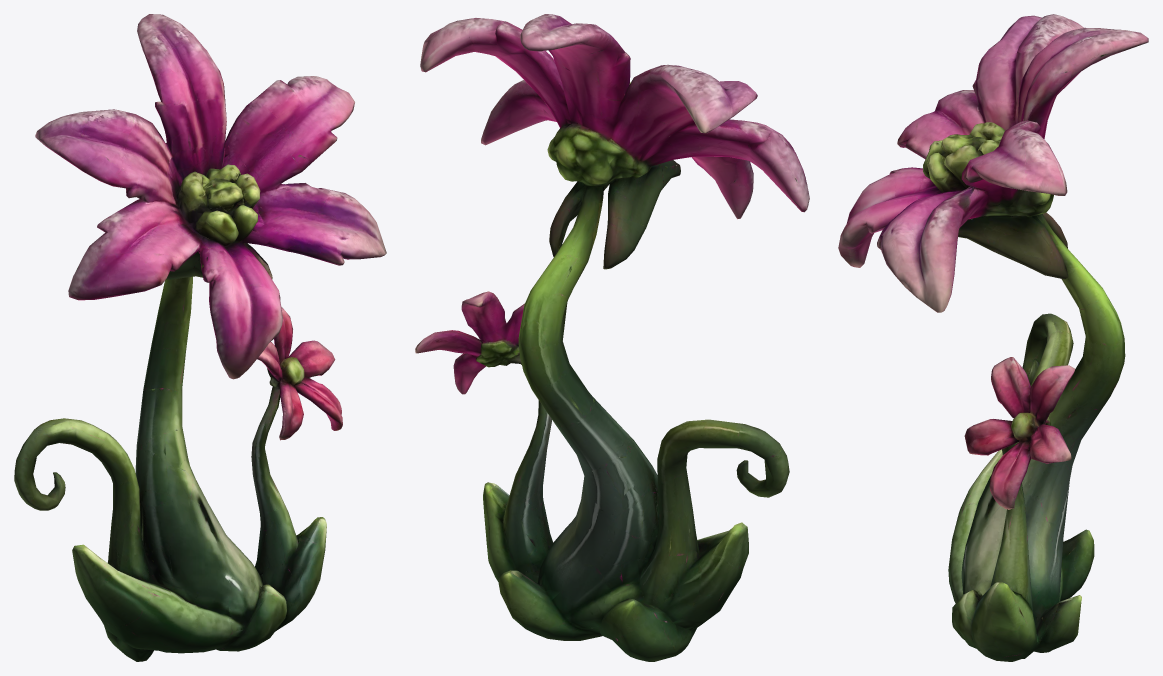
File: cloud_flower.glb
3 renders of one model, left to right at view 1: azimuth 30°, elevation 25°; view 2: azimuth 150°, elevation 25°; view 3: azimuth 270°, elevation 25°, orthographic. The views are drawn at different scales.
Visible parts, largest first — view 1: Mesh_0; view 2: Mesh_0; view 3: Mesh_0.
Part boxes in pixels (left/top/right/bottom): Mesh_0: left=14, top=14, right=386, bottom=661; Mesh_0: left=415, top=14, right=809, bottom=661; Mesh_0: left=838, top=14, right=1148, bottom=661.
Bounding box in the file's own units: 1.12 × 1.9 × 0.8799.
1 material, 1 textured.
